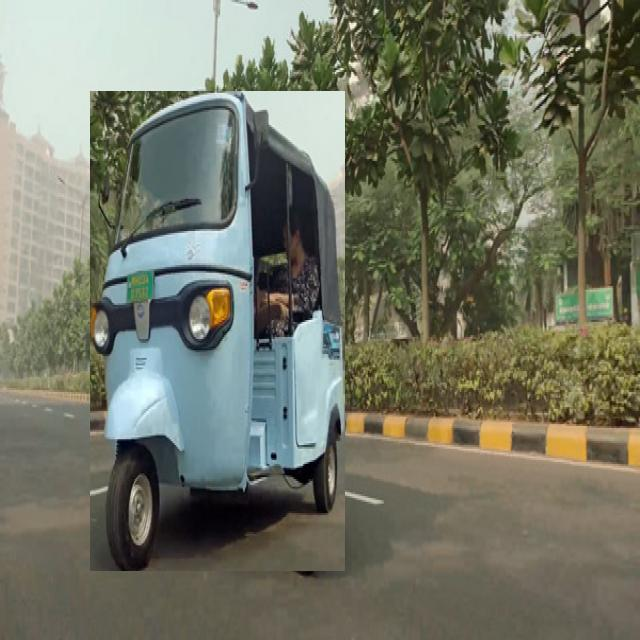autorickshaw: (90, 91, 345, 571)
